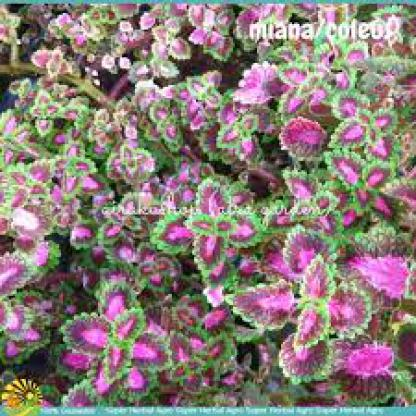Bunga Coleus: (18, 31, 395, 384)
